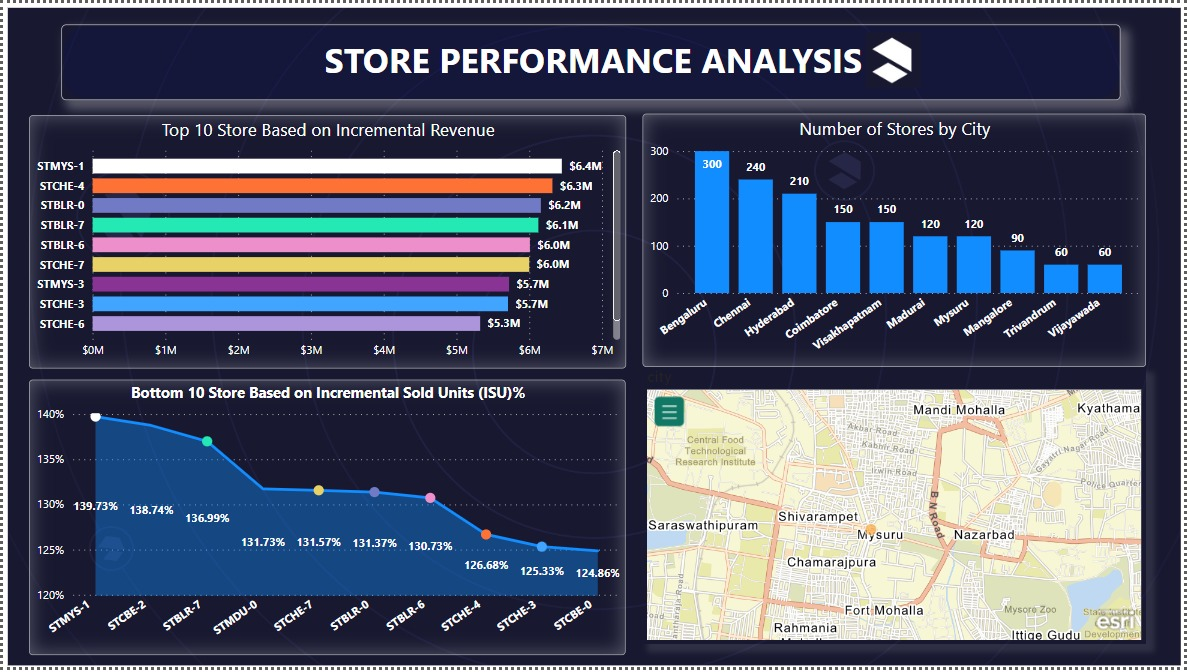

What the dashboard file says about the page in this screenshot:
{"tool":"powerbi","page":{"name":"Store Performance Analysis","canvas":[1280,720],"ordinal":1},"visuals":[{"type":"image","box":[0,0,1281.8,722.7],"z":0},{"type":"image","box":[1109.1,0,170.5,170.5],"z":1000},{"type":"shape","box":[63.6,22.7,1147.7,81.8],"z":2000},{"type":"textbox","box":[336.4,29.5,606.8,70.5],"z":3000},{"type":"image","box":[927.3,27.3,77.3,70.5],"z":4000},{"type":"barChart","title":"Top 10 Store Based on Incremental Revenue","fields":{"Category":["fact_events.store_id"],"Y":["Sum(fact_events.IR)"]},"box":[29.1,121.8,647.3,274.5],"z":5000},{"type":"stackedAreaChart","title":"Bottom 10 Store Based on Incremental Sold Units (ISU)%","fields":{"Category":["fact_events.store_id"],"Y":["Key Measures.ISU %"]},"box":[28.3,408.3,646.7,298.3],"z":6000},{"type":"columnChart","title":"Number of Stores by City","fields":{"Category":["dim_stores.city"],"Y":["CountNonNull(fact_events.store_id)"]},"box":[692.7,120,545.5,274.5],"z":7000},{"type":"esriVisual","fields":{"Location":["dim_stores.city"]},"box":[692.7,394.5,545.5,300],"z":8000}]}

Visuals, with their boxes in screenshot pixels (x1, y1, x2, y2), scaled from the page's 1280x720 canvas onto the 1187x672 screenshot:
image: bbox=(0, 0, 1186, 671)
image: bbox=(1029, 0, 1186, 159)
shape: bbox=(59, 21, 1123, 98)
textbox: bbox=(312, 28, 875, 93)
image: bbox=(860, 25, 932, 91)
"Top 10 Store Based on Incremental Revenue" barChart: bbox=(27, 114, 627, 370)
"Bottom 10 Store Based on Incremental Sold Units (ISU)%" stackedAreaChart: bbox=(26, 381, 626, 659)
"Number of Stores by City" columnChart: bbox=(642, 112, 1148, 368)
esriVisual - dim_stores.city: bbox=(642, 368, 1148, 648)
